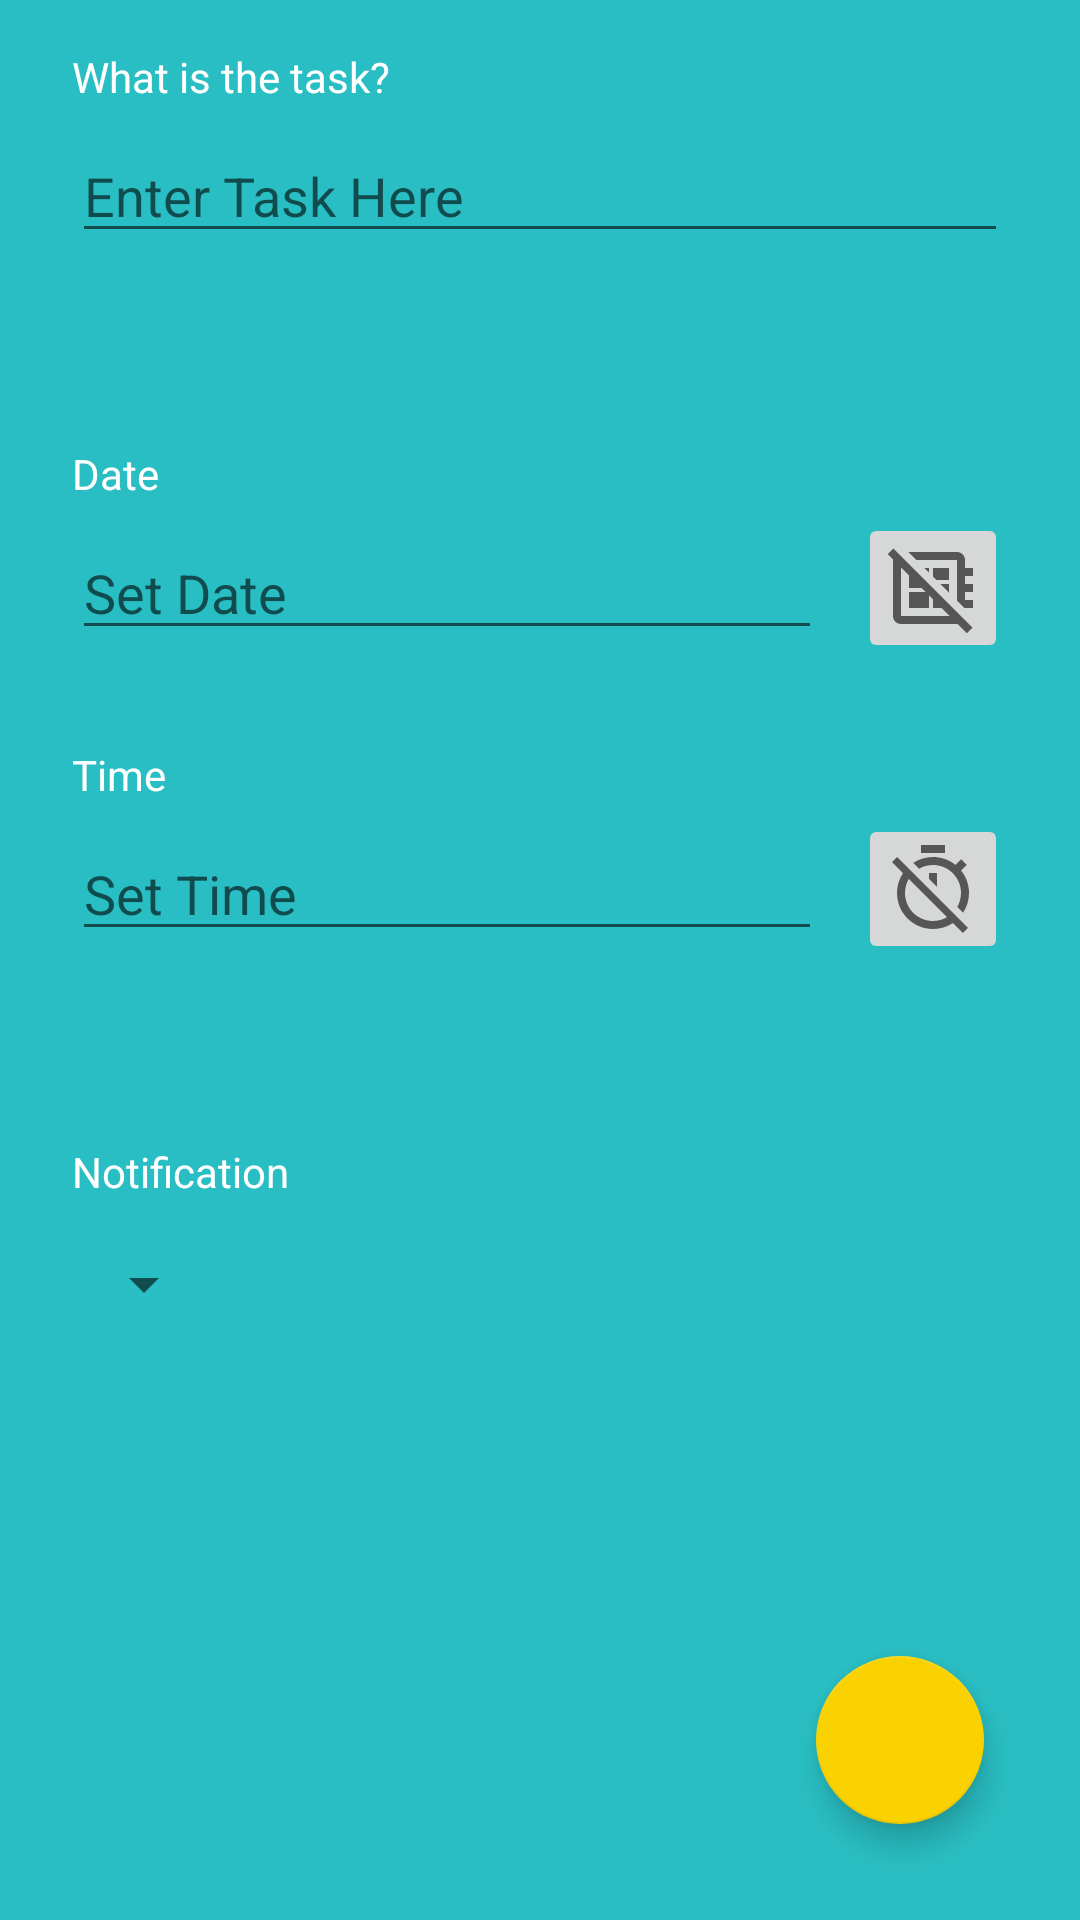

Icons on this 1080 x 1920 Android screen, each with its box as (x1, y1, x2, y2):
developer board off: (870, 531, 996, 645)
timer off: (870, 832, 996, 946)
